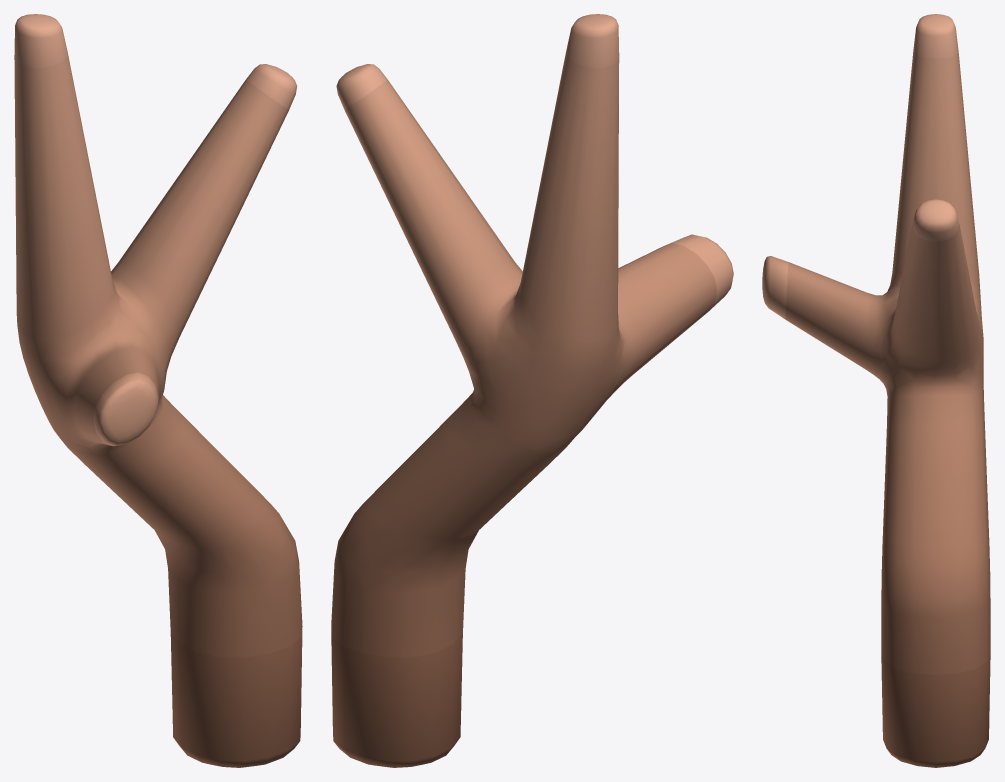
The model's file is naked_tree.fbx.
The picture shows the model from 3 angles, left to right: view 1: azimuth 30°, elevation 25°; view 2: azimuth 150°, elevation 25°; view 3: azimuth 270°, elevation 25°; orthographic projection. The views are drawn at different scales.
Visible parts, largest first — view 1: naked_tree; view 2: naked_tree; view 3: naked_tree.
Part boxes in pixels (x1,y1,x2,y2): naked_tree: (14,14,302,767); naked_tree: (331,14,733,767); naked_tree: (762,14,990,767).
Bounding box in the file's own units: 86.74 × 221 × 69.85.
